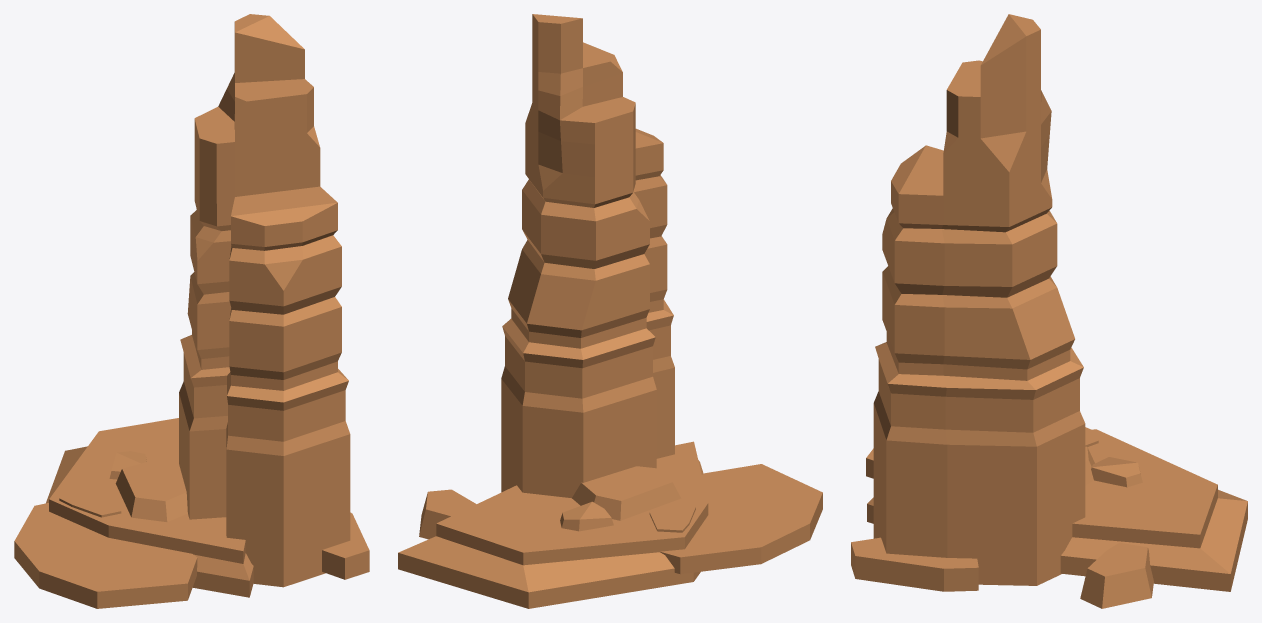
Rendered from SandRocks5_LOD1.fbx.
3 views of the same model, side by side, from view 1: azimuth 30°, elevation 25°; view 2: azimuth 150°, elevation 25°; view 3: azimuth 270°, elevation 25° (orthographic). The views are drawn at different scales.
Parts seen in each view (by area): view 1: Plane.173; view 2: Plane.173; view 3: Plane.173.
Boxes of the visible parts, left/top/right/bottom form: Plane.173: left=14, top=14, right=369, bottom=608; Plane.173: left=398, top=14, right=822, bottom=608; Plane.173: left=851, top=14, right=1247, bottom=608.
Bounding box in the file's own units: 71.24 × 103 × 69.17.
